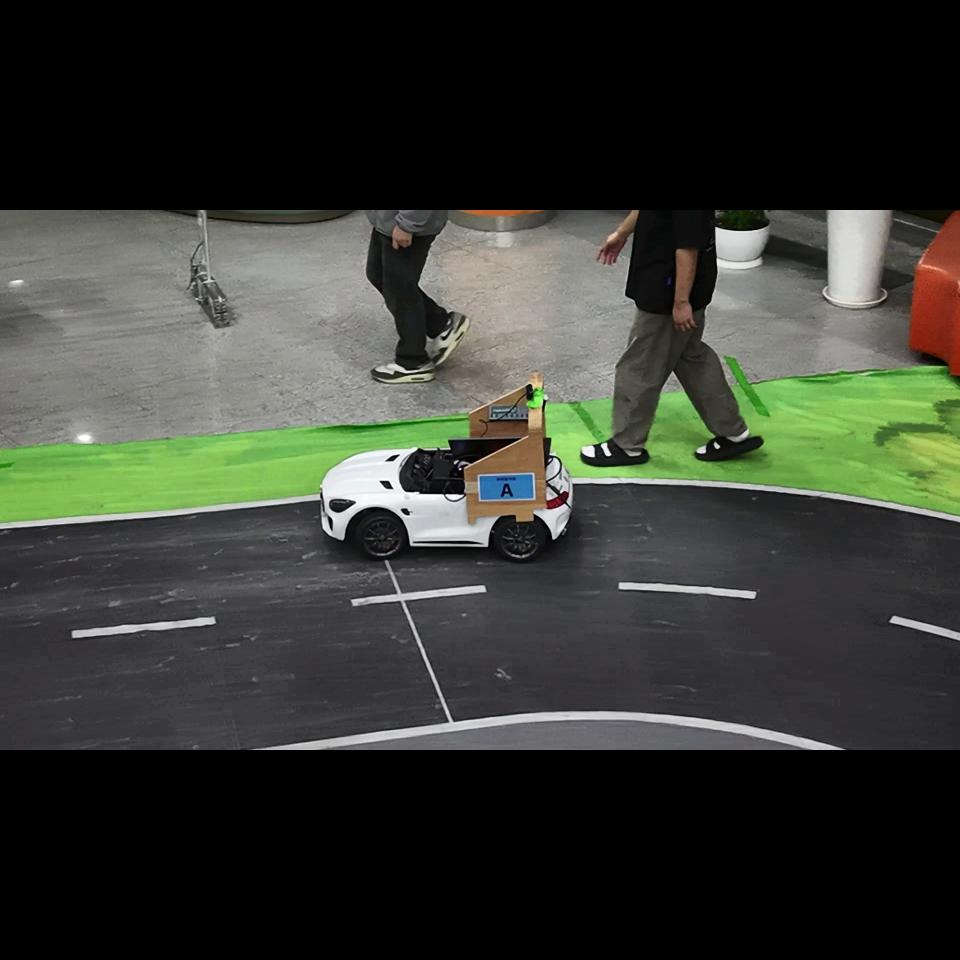broken_line: (350, 585, 488, 607), (71, 617, 217, 637), (619, 583, 756, 599), (889, 615, 960, 641)
